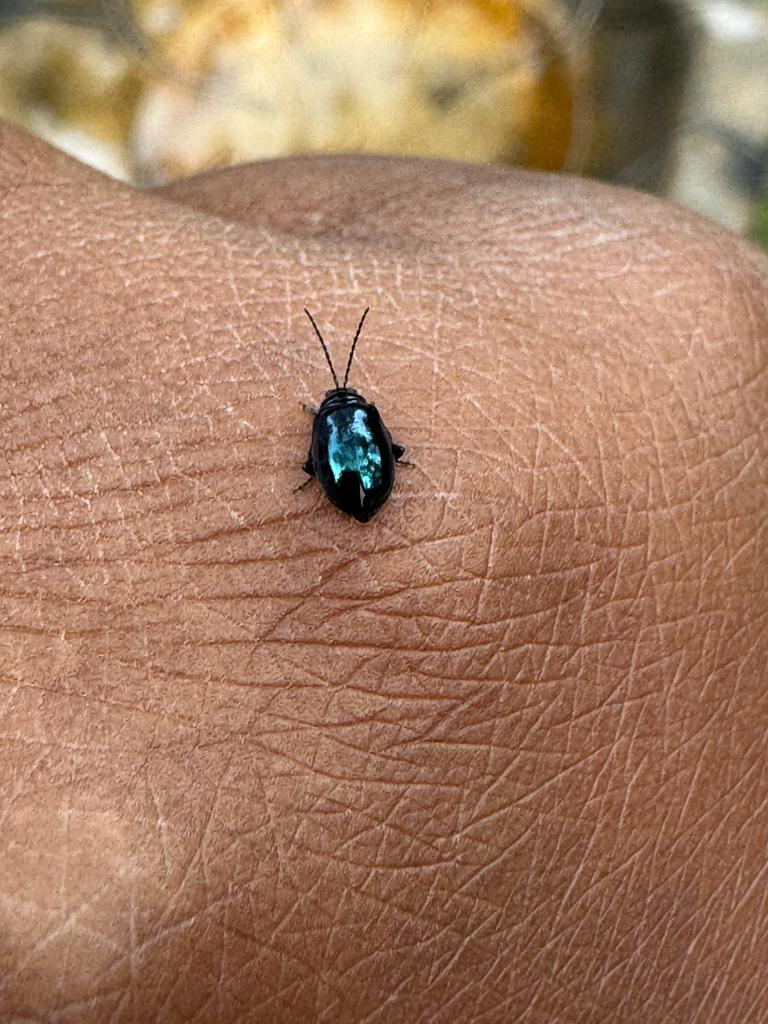flea_beetle: (245, 273, 465, 547)
